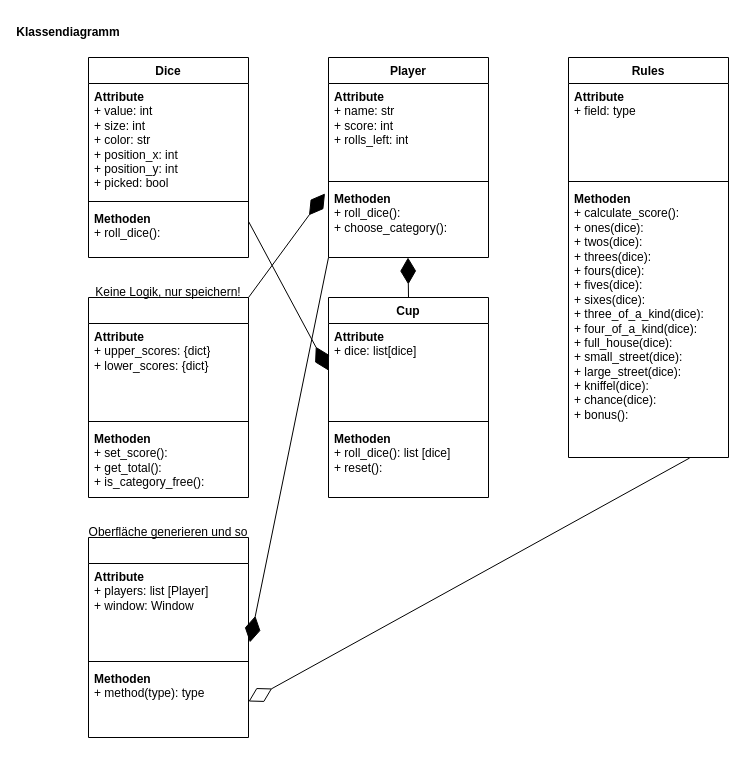
Image size: 746x757. Some labels were removed from this diagram. Here are the shapes that lost their labels. From the top down, the box of each, then its label:
(88, 296, 248, 498): ScoreCard
(88, 536, 248, 738): Game
